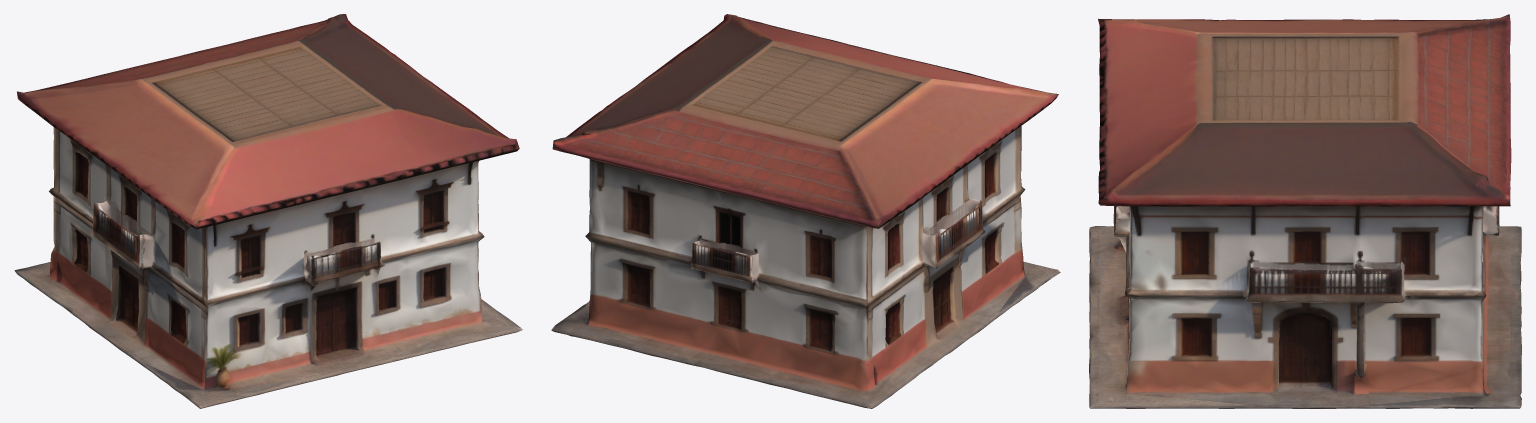
Rendered from Generate_a_low_poly_3_0908105027_texture.fbx.
The picture shows the model from 3 angles, left to right: view 1: azimuth 30°, elevation 25°; view 2: azimuth 150°, elevation 25°; view 3: azimuth 270°, elevation 25°; orthographic projection. The views are drawn at different scales.
Visible parts, largest first — view 1: Mesh1.0; view 2: Mesh1.0; view 3: Mesh1.0.
Part boxes in pixels (x1,y1,x2,y2): Mesh1.0: (14, 14, 522, 408); Mesh1.0: (551, 14, 1060, 408); Mesh1.0: (1089, 14, 1521, 408).
Size of the model in its own units: 198 by 121 by 197.
Materials: 1 (1 with a texture image).
